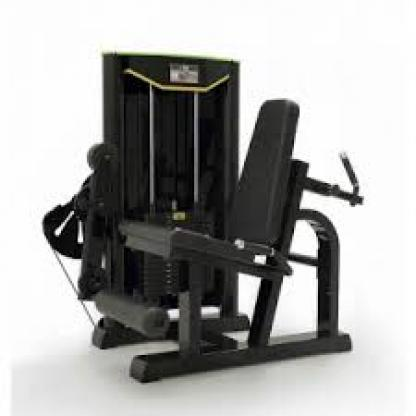leg extension: (36, 45, 368, 392)
